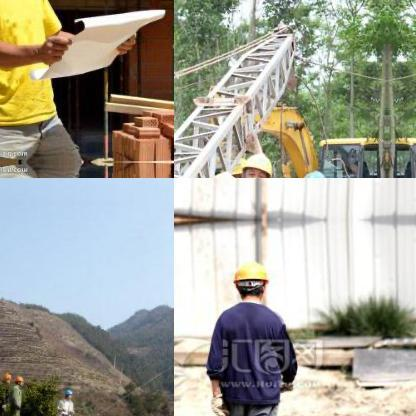Helmet: (228, 256, 272, 300), (234, 143, 274, 177), (202, 166, 240, 177), (174, 131, 182, 173), (296, 168, 331, 177), (1, 368, 11, 382), (62, 386, 73, 398), (15, 374, 23, 386)
